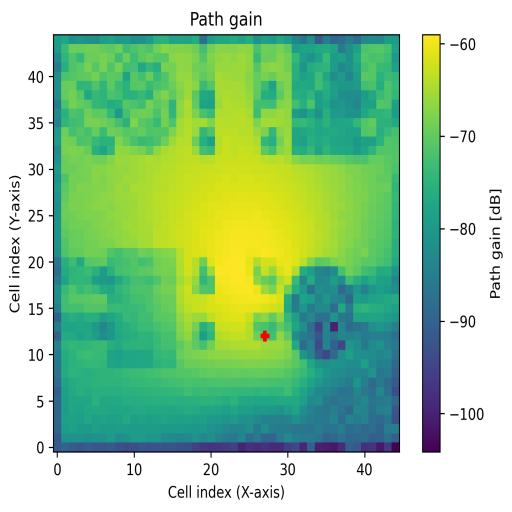Concrete: (292, 44, 385, 154)
Glass: (76, 44, 176, 157)
Metal: (284, 258, 368, 359)
Wood: (108, 248, 176, 370)
